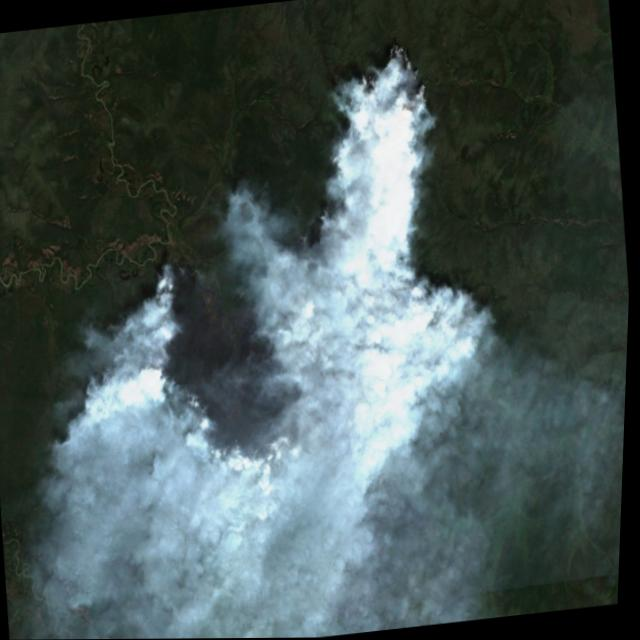fire: (126, 243, 317, 493), (339, 29, 457, 321)
